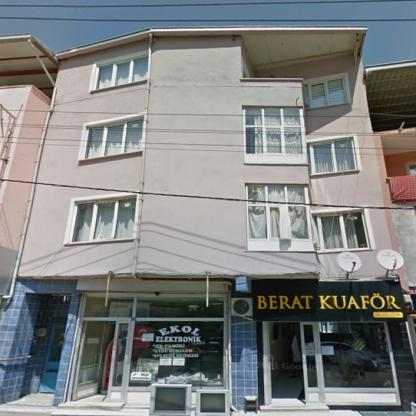door: (68, 320, 106, 401), (39, 319, 66, 392), (107, 320, 130, 401), (301, 322, 321, 404), (262, 323, 272, 404)
window: (81, 293, 226, 391), (319, 323, 398, 404), (244, 106, 306, 164), (247, 202, 314, 251), (70, 195, 135, 242), (312, 208, 373, 252), (81, 118, 142, 159), (94, 54, 148, 90), (309, 137, 359, 175), (305, 76, 347, 108), (247, 186, 309, 204), (408, 163, 415, 174)
